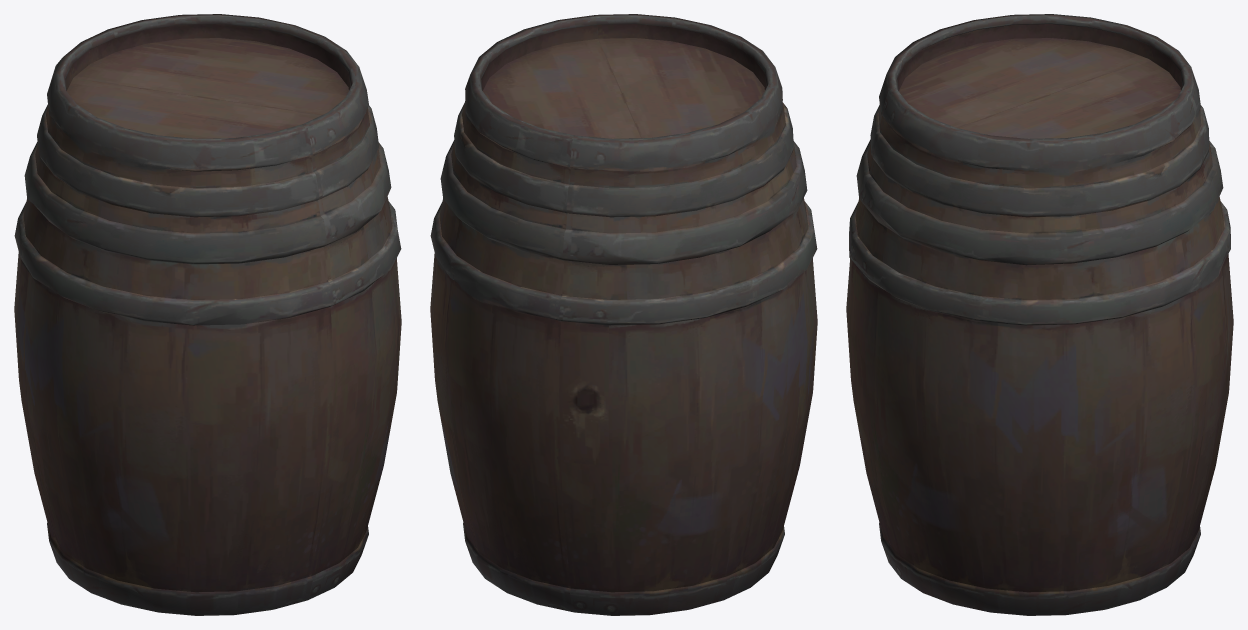
The model's file is Barrel.glb.
3 renders of one model, left to right at view 1: azimuth 30°, elevation 25°; view 2: azimuth 150°, elevation 25°; view 3: azimuth 270°, elevation 25°, orthographic.
Parts seen in each view (by area): view 1: Vino_1_WineBarrel_LOD0; view 2: Vino_1_WineBarrel_LOD0; view 3: Vino_1_WineBarrel_LOD0.
Part boxes in pixels (bbox=[...]): Vino_1_WineBarrel_LOD0: bbox=[14, 14, 401, 615]; Vino_1_WineBarrel_LOD0: bbox=[430, 14, 817, 615]; Vino_1_WineBarrel_LOD0: bbox=[846, 14, 1233, 615].
Bounding box in the file's own units: 0.6978 × 0.9481 × 0.6978.
1 material, 1 textured.
